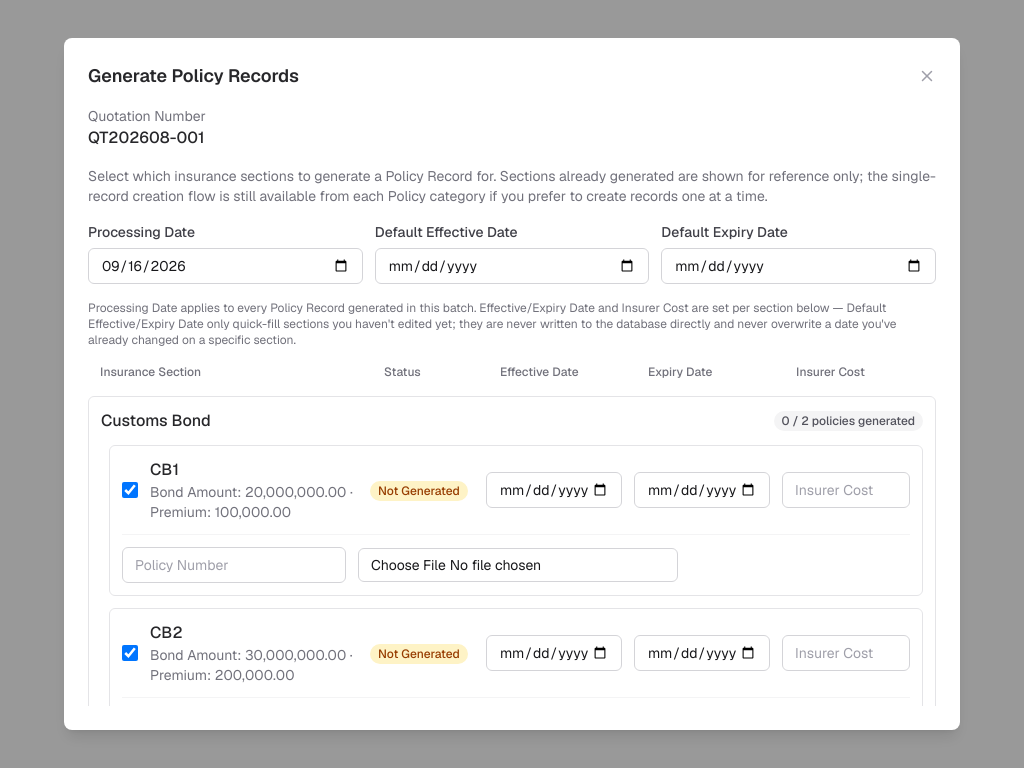
Scenario: GeneratePolicyRecordsModal — Phase 6 Customs Bond per-item generation › Default Effective Date quick-fills untouched Customs Bond item rows the same way it fills normal section rows
The width and height of the screenshot is (1024, 768).
Step 1. Type "2026-08-20" into the date field named "Effective Date — Customs Bond – CB1" → (554, 490), box x1=486 y1=472 x2=622 y2=508
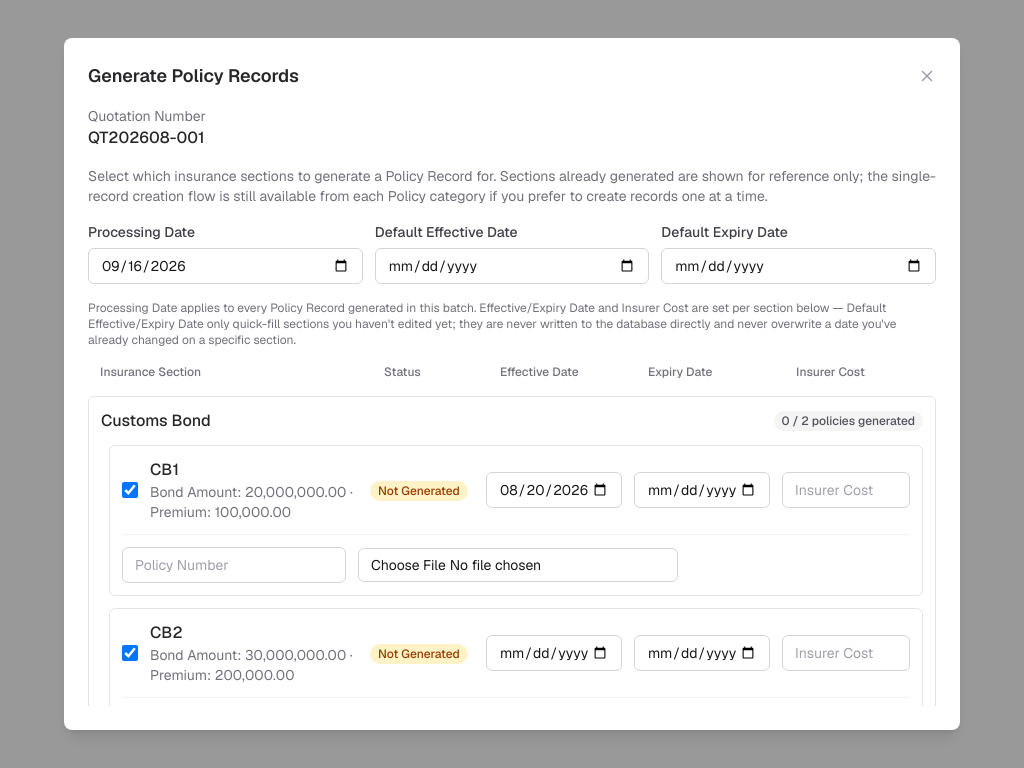
Step 2. Type "2026-09-01" into the date field labelled "Default Effective Date" → (512, 266), box x1=375 y1=248 x2=649 y2=284
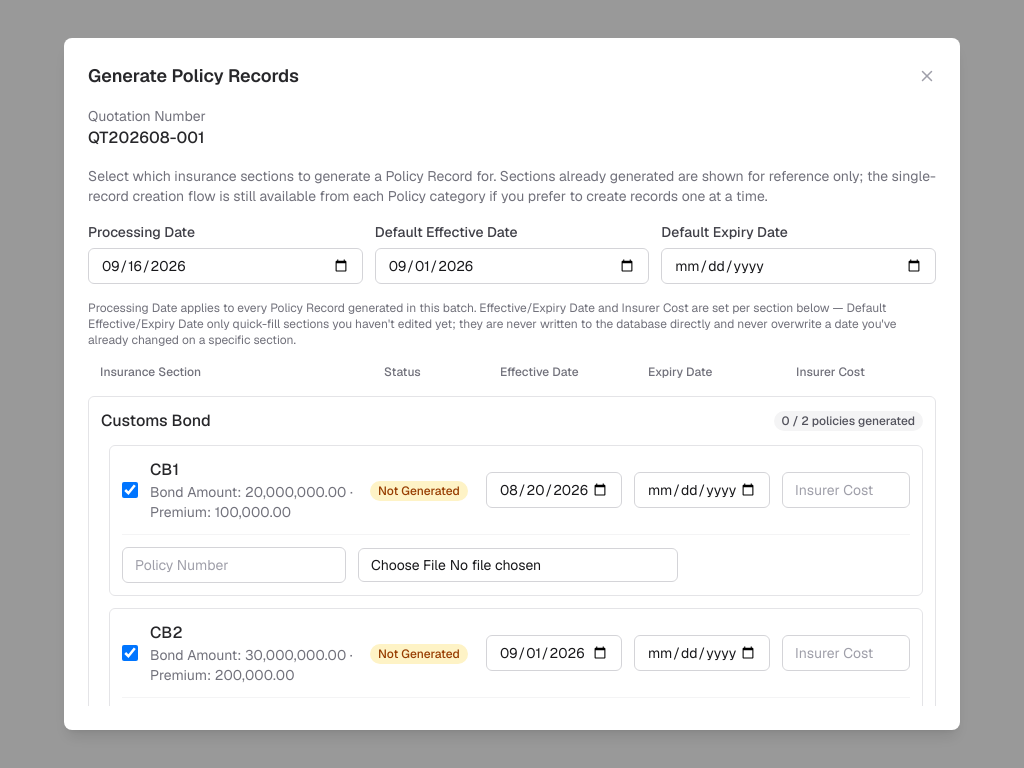
Now the date field named "Effective Date — Customs Bond – CB2" holds "2026-09-01", box x1=486 y1=635 x2=622 y2=671
